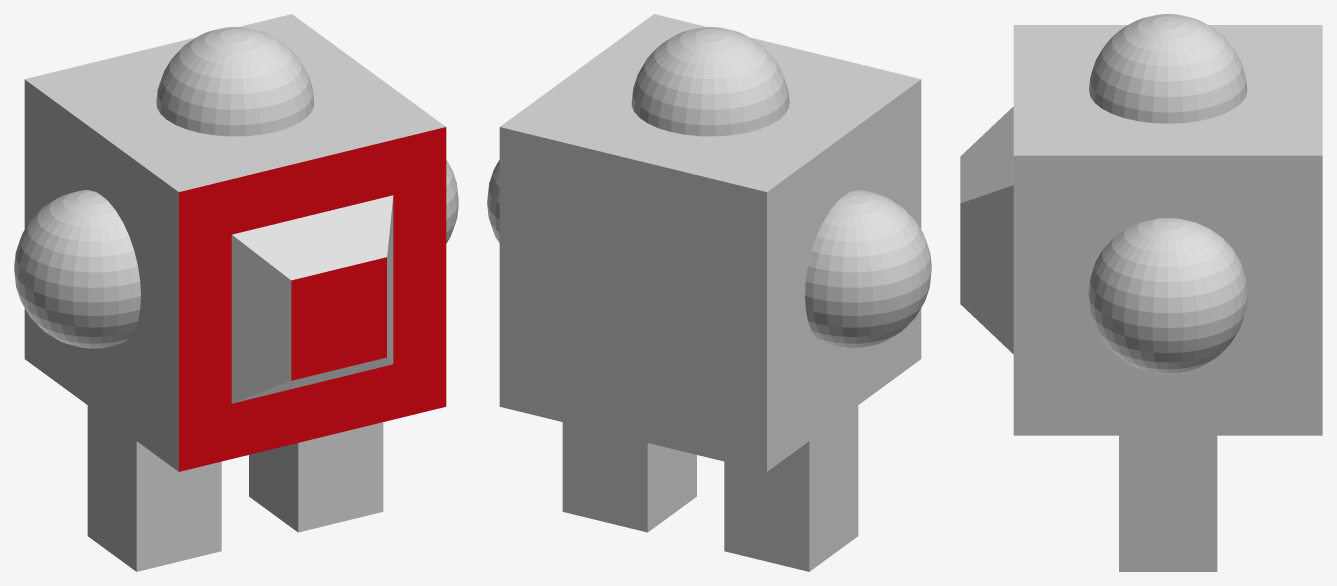
File: boxMan.fbx
3 renders of one model, left to right at view 1: azimuth 30°, elevation 25°; view 2: azimuth 150°, elevation 25°; view 3: azimuth 270°, elevation 25°, orthographic.
Visible parts, largest first — view 1: Cube; view 2: Cube; view 3: Cube.
Part boxes in pixels (x1,y1,x2,y2): Cube: (14,14,458,571); Cube: (487,14,931,571); Cube: (960,14,1322,571).
Bounding box in the file's own units: 317 × 350 × 234.
